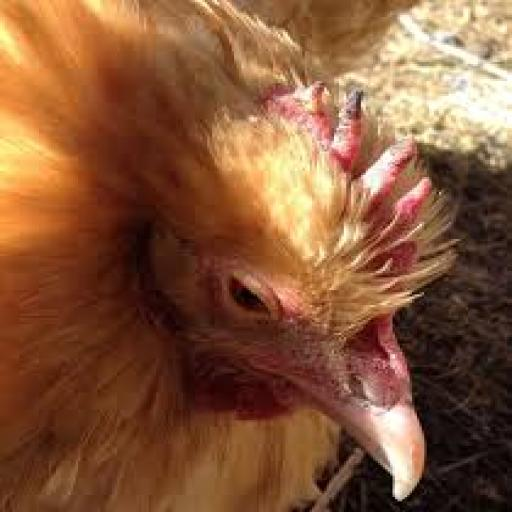disease: (264, 54, 436, 214), (214, 243, 316, 351)
